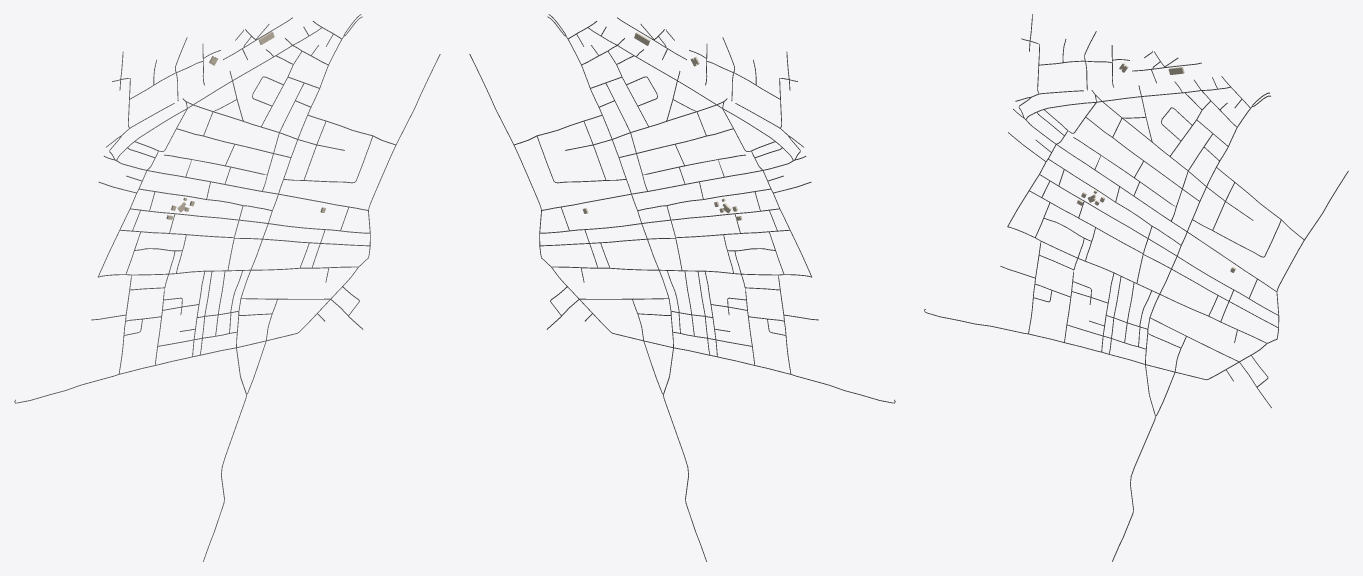
File: zarqa_3612_3213.glb
The picture shows the model from 3 angles, left to right: view 1: azimuth 30°, elevation 25°; view 2: azimuth 150°, elevation 25°; view 3: azimuth 330°, elevation 25°; orthographic projection.
Visible parts, largest first — view 1: Road .011, Road .005; view 2: Road .011, Road .005; view 3: Road .011, Road .005.
Part boxes in pixels (bbox=[...]): Road .011: bbox=[14, 54, 440, 403]; Road .005: bbox=[203, 36, 343, 561]; Road .011: bbox=[469, 54, 895, 403]; Road .005: bbox=[566, 36, 706, 561]; Road .011: bbox=[924, 171, 1348, 380]; Road .005: bbox=[1112, 106, 1252, 561].
Size of the model in its own units: 1620 by 1925 by 8.7.
